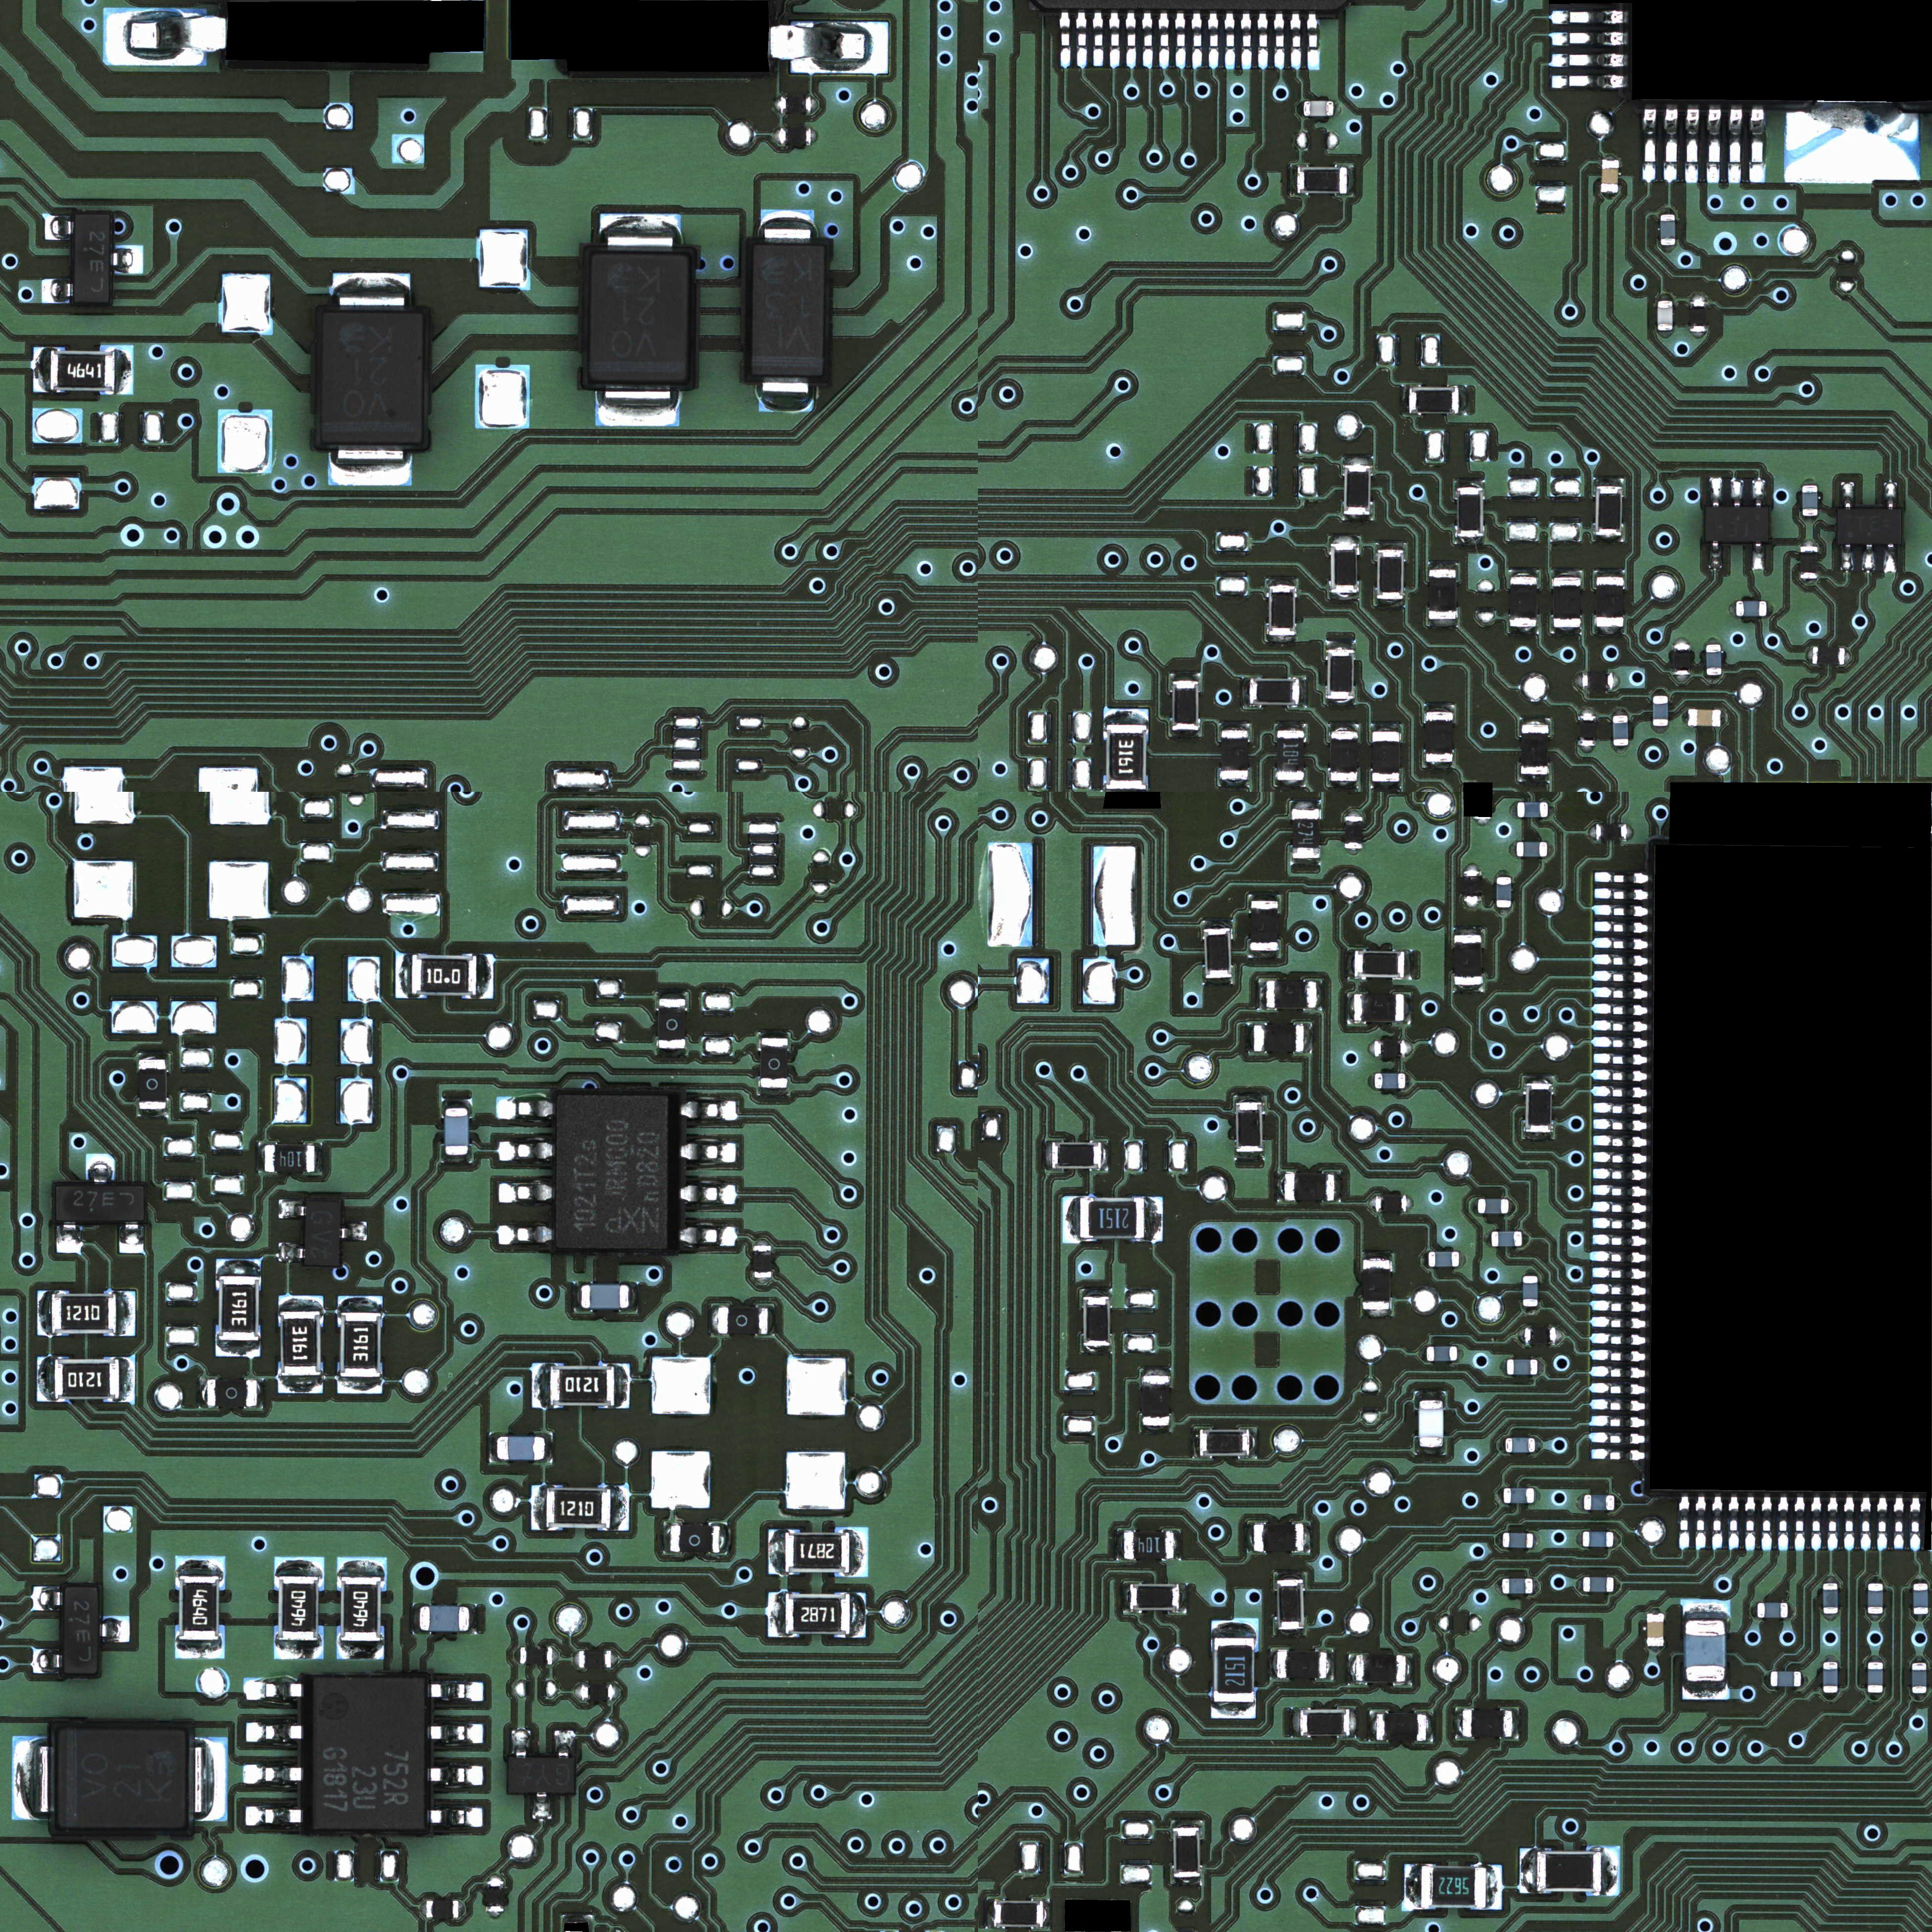Package: (556, 1093, 669, 1251), (313, 1677, 425, 1829), (322, 311, 423, 444), (589, 253, 688, 384), (57, 1730, 184, 1829), (752, 244, 824, 377), (55, 1182, 147, 1223), (73, 212, 111, 303), (64, 1587, 97, 1674), (1421, 1865, 1484, 1909), (1214, 1637, 1256, 1702), (179, 1575, 221, 1640), (218, 1276, 260, 1341), (1106, 724, 1148, 789), (278, 1576, 320, 1640), (545, 1488, 610, 1529), (340, 1313, 380, 1378), (53, 1359, 119, 1399), (784, 1594, 849, 1635), (784, 1532, 849, 1573), (340, 1576, 380, 1642), (53, 1293, 117, 1334), (550, 1366, 614, 1407), (412, 955, 476, 996), (1537, 1851, 1601, 1891), (51, 350, 115, 391), (1081, 1198, 1145, 1238), (280, 1311, 320, 1375), (1684, 1621, 1725, 1681), (1838, 508, 1900, 545), (510, 1757, 573, 1792), (306, 1201, 341, 1263), (1706, 508, 1769, 541), (1253, 1522, 1304, 1552), (1329, 729, 1357, 782), (1284, 1171, 1334, 1201), (1355, 1654, 1405, 1684), (656, 998, 685, 1049), (759, 1037, 787, 1088), (1276, 729, 1304, 780), (717, 1306, 768, 1334), (1219, 729, 1247, 780), (1553, 577, 1582, 628), (1428, 570, 1456, 619), (1249, 901, 1277, 950), (1123, 1530, 1173, 1559), (265, 1145, 315, 1173), (1463, 1709, 1513, 1737), (1362, 1260, 1391, 1309), (1596, 577, 1624, 626), (1267, 980, 1316, 1008), (1277, 1651, 1327, 1679), (1454, 934, 1481, 985), (1426, 711, 1453, 763), (1327, 648, 1353, 699), (140, 1058, 166, 1109), (1353, 952, 1405, 978), (1373, 731, 1399, 782), (1141, 1376, 1169, 1424), (1355, 993, 1403, 1021), (1292, 809, 1318, 858), (1277, 1580, 1304, 1629), (1376, 1714, 1426, 1741), (1269, 586, 1295, 635), (1254, 1024, 1304, 1051), (1200, 1430, 1249, 1456), (1205, 929, 1231, 978), (1522, 724, 1548, 773), (207, 1380, 257, 1407), (671, 1525, 720, 1552), (1330, 543, 1357, 593), (1509, 577, 1536, 626), (1456, 488, 1483, 536), (1300, 1709, 1348, 1736), (1175, 1828, 1200, 1877), (1596, 487, 1621, 536), (1527, 1083, 1552, 1132), (1345, 465, 1369, 515), (1237, 1102, 1261, 1152), (1378, 548, 1403, 598), (1249, 679, 1299, 704), (1173, 681, 1198, 729), (1085, 1297, 1109, 1345), (580, 1283, 628, 1307), (1053, 1143, 1100, 1168), (1410, 387, 1458, 412), (421, 1606, 469, 1631), (1299, 168, 1346, 193), (1131, 1585, 1178, 1610), (497, 1435, 543, 1460), (994, 1902, 1044, 1925), (446, 1108, 469, 1155), (1419, 1399, 1442, 1447), (752, 1246, 773, 1277), (426, 1898, 458, 1918), (579, 1649, 610, 1668), (520, 1645, 552, 1665), (1601, 159, 1619, 193), (1812, 646, 1845, 663), (487, 1879, 504, 1913), (1688, 708, 1720, 725), (1647, 1614, 1665, 1645), (1674, 644, 1691, 676), (1345, 816, 1362, 847), (1799, 547, 1817, 579), (1801, 485, 1819, 517), (1690, 297, 1706, 331), (580, 1684, 614, 1700), (1477, 1198, 1509, 1214), (1375, 1196, 1407, 1212), (1428, 1251, 1460, 1267), (1658, 299, 1674, 331), (1522, 1276, 1537, 1307), (1822, 1661, 1838, 1693), (1583, 1495, 1615, 1511), (1660, 214, 1675, 246), (1375, 1040, 1407, 1056), (1913, 1583, 1928, 1615), (1506, 1437, 1536, 1453), (1518, 801, 1548, 817), (1504, 1488, 1534, 1504), (1822, 1583, 1838, 1614), (1771, 1670, 1801, 1686), (1491, 1231, 1522, 1247), (1375, 1072, 1405, 1088), (1507, 1359, 1537, 1375), (780, 127, 810, 143), (1504, 1532, 1534, 1548), (1525, 1327, 1555, 1343), (1583, 1576, 1614, 1592), (1614, 717, 1629, 747), (1502, 1578, 1532, 1594), (1652, 695, 1668, 725), (1583, 1530, 1614, 1546), (1426, 1346, 1458, 1361), (1736, 602, 1767, 616), (1302, 101, 1334, 115), (1516, 842, 1546, 856), (1706, 644, 1720, 674), (1868, 1661, 1882, 1691), (1868, 1583, 1882, 1614), (1757, 1603, 1787, 1617), (1497, 878, 1511, 908), (1582, 674, 1612, 688), (1580, 717, 1594, 747), (1913, 1663, 1927, 1693)
Solder: (1783, 111, 1921, 182), (101, 7, 225, 71), (770, 14, 892, 78), (11, 1734, 57, 1821), (596, 384, 679, 426), (186, 1736, 226, 1821), (329, 444, 412, 485), (600, 212, 679, 253), (333, 272, 410, 311), (759, 377, 816, 412), (761, 211, 814, 242), (1548, 7, 1624, 27), (681, 1139, 736, 1164), (1548, 30, 1624, 48), (1548, 51, 1624, 69), (495, 1097, 554, 1120), (244, 1677, 303, 1700), (1550, 73, 1624, 90), (246, 1803, 303, 1826), (681, 1099, 738, 1122), (681, 1223, 738, 1246), (242, 1764, 303, 1785), (681, 1182, 736, 1205), (1640, 106, 1656, 184), (1663, 106, 1679, 184), (1707, 106, 1723, 184), (1684, 106, 1700, 184), (1727, 106, 1743, 184), (499, 1223, 552, 1246), (499, 1180, 552, 1203), (1750, 108, 1766, 184), (246, 1721, 303, 1743), (426, 1723, 483, 1744), (428, 1806, 483, 1828), (499, 1139, 554, 1161), (426, 1683, 483, 1702), (428, 1766, 483, 1785), (115, 343, 134, 395), (175, 1640, 226, 1660), (849, 1527, 869, 1578), (1601, 1845, 1621, 1897), (338, 1557, 387, 1576), (274, 1555, 324, 1575), (175, 1555, 225, 1575), (274, 1640, 324, 1660), (111, 244, 143, 274), (1306, 11, 1322, 71), (1587, 1398, 1647, 1414), (1587, 1265, 1647, 1281), (1591, 1067, 1651, 1083), (1591, 1083, 1651, 1099), (1591, 1099, 1651, 1115), (1683, 1681, 1730, 1700), (1062, 1196, 1081, 1244), (1683, 1599, 1730, 1619), (1591, 1215, 1649, 1231), (1591, 1116, 1649, 1132), (1589, 1447, 1645, 1463), (1145, 1196, 1164, 1242), (117, 1292, 136, 1336), (85, 1154, 115, 1182), (1191, 11, 1205, 71), (1207, 11, 1221, 71), (1240, 11, 1254, 71), (1587, 1415, 1647, 1430), (1587, 1366, 1647, 1380), (1587, 1382, 1647, 1396), (1587, 1348, 1647, 1362), (1587, 1332, 1647, 1346), (1587, 1315, 1647, 1329), (1587, 1299, 1647, 1313), (1589, 1249, 1649, 1263), (1589, 1233, 1649, 1247), (1589, 1200, 1649, 1214), (1589, 1168, 1649, 1182), (1591, 1134, 1651, 1148), (1591, 1051, 1651, 1065), (1591, 1035, 1651, 1049), (1591, 1019, 1651, 1033), (1591, 1001, 1651, 1016), (1591, 970, 1651, 984), (1589, 954, 1649, 968), (1591, 886, 1651, 901), (1591, 918, 1651, 932), (1591, 902, 1651, 916), (1591, 936, 1651, 950), (336, 1642, 384, 1660), (32, 1647, 64, 1674), (1484, 1863, 1502, 1911), (1058, 11, 1072, 69), (1074, 11, 1088, 69), (1108, 11, 1122, 69), (1092, 11, 1106, 69), (1173, 11, 1187, 69), (1157, 11, 1171, 69), (1123, 11, 1138, 69), (1290, 11, 1304, 69), (1272, 11, 1286, 69), (1256, 11, 1270, 69), (1589, 1283, 1647, 1297), (1591, 1184, 1649, 1198), (1591, 1150, 1649, 1164), (1591, 985, 1649, 1000), (1591, 870, 1649, 885), (278, 1376, 324, 1394), (768, 1529, 786, 1575), (476, 954, 494, 1000), (34, 347, 51, 393), (216, 1258, 262, 1276), (395, 954, 412, 1000), (99, 1615, 129, 1642), (32, 1585, 64, 1610), (612, 1486, 630, 1530), (1520, 1849, 1537, 1893), (1909, 1497, 1923, 1552), (1891, 1497, 1905, 1552), (1875, 1497, 1890, 1552), (1858, 1497, 1872, 1552), (1842, 1497, 1856, 1552), (1826, 1495, 1840, 1550), (1776, 1497, 1790, 1552), (1759, 1497, 1773, 1552), (1743, 1497, 1757, 1552), (1727, 1495, 1741, 1550), (1711, 1495, 1725, 1550), (1695, 1495, 1709, 1550), (1677, 1497, 1691, 1552), (44, 214, 73, 241), (57, 1223, 81, 1253), (119, 1223, 143, 1253), (42, 280, 73, 304), (1224, 11, 1237, 71), (1212, 1621, 1258, 1637), (533, 1362, 548, 1408), (214, 1341, 260, 1357), (119, 1357, 134, 1403), (278, 1295, 324, 1311), (1405, 1863, 1421, 1909), (1141, 11, 1154, 69), (1589, 1431, 1647, 1444), (1212, 1702, 1256, 1718), (614, 1364, 630, 1408), (768, 1592, 784, 1637), (37, 1357, 53, 1401), (1810, 1495, 1822, 1550), (1794, 1495, 1806, 1550), (531, 1484, 545, 1530), (37, 1290, 51, 1336), (338, 1378, 382, 1392), (338, 1297, 382, 1311), (851, 1592, 865, 1637), (1104, 709, 1148, 724), (341, 1219, 368, 1240), (554, 1730, 575, 1757), (533, 1792, 552, 1821), (278, 1242, 306, 1261), (511, 1730, 531, 1757), (280, 1200, 306, 1219), (1750, 541, 1766, 570), (1709, 476, 1723, 506), (1730, 478, 1744, 508), (1752, 479, 1766, 508), (1882, 545, 1897, 571), (1516, 773, 1550, 784), (1290, 1706, 1300, 1739), (1861, 545, 1875, 570), (1842, 481, 1854, 510), (1884, 479, 1897, 508), (1458, 384, 1468, 416), (1249, 1426, 1260, 1458), (1709, 541, 1721, 568), (1842, 545, 1854, 571), (1272, 1629, 1307, 1638), (469, 1605, 479, 1633), (545, 1431, 554, 1465), (1399, 384, 1408, 418), (1274, 1569, 1307, 1578), (561, 1913, 594, 1921), (1361, 1309, 1392, 1318), (412, 1603, 421, 1635), (441, 1155, 472, 1164), (488, 1431, 497, 1463), (1592, 476, 1624, 485), (1290, 800, 1322, 809), (1302, 1021, 1311, 1053), (1258, 978, 1267, 1010), (1246, 1520, 1254, 1552), (1173, 1529, 1182, 1560), (1143, 1366, 1169, 1376), (136, 1109, 168, 1118), (198, 1376, 207, 1408), (1288, 165, 1297, 195), (1456, 479, 1486, 488), (1343, 456, 1373, 465), (1428, 619, 1458, 628), (1299, 678, 1307, 708), (1424, 702, 1454, 711), (1403, 994, 1412, 1024), (1415, 1447, 1445, 1456), (1415, 1391, 1445, 1399), (1346, 1654, 1355, 1684), (1269, 1649, 1277, 1679), (1178, 1583, 1187, 1614), (1044, 1141, 1053, 1171), (1235, 1152, 1265, 1161), (985, 1898, 994, 1928), (1362, 1251, 1392, 1260), (257, 1378, 265, 1408), (442, 1099, 471, 1108), (1428, 561, 1456, 570), (1346, 165, 1355, 193), (1456, 536, 1484, 545), (1376, 598, 1405, 607), (1171, 729, 1200, 738), (1327, 1651, 1336, 1679), (1083, 1345, 1111, 1353), (663, 1522, 671, 1555), (720, 1522, 727, 1555), (1507, 570, 1541, 577), (1122, 1580, 1129, 1614), (1330, 534, 1357, 543), (1269, 577, 1295, 586), (1304, 1522, 1311, 1553), (757, 1088, 789, 1095), (1594, 570, 1626, 577), (1507, 626, 1539, 633), (1592, 536, 1624, 543), (1369, 782, 1401, 789), (1290, 858, 1322, 865), (1247, 950, 1279, 957), (1201, 920, 1233, 927), (1346, 948, 1353, 980), (1453, 985, 1484, 993), (1453, 927, 1484, 934), (1523, 1076, 1555, 1083), (1369, 1709, 1376, 1741), (1116, 1529, 1123, 1560), (1192, 1426, 1200, 1458), (1233, 1095, 1265, 1102), (1171, 1821, 1203, 1828), (315, 1143, 322, 1175), (759, 1030, 789, 1037), (1552, 628, 1582, 635), (1552, 570, 1582, 577), (1520, 717, 1550, 724), (1375, 541, 1405, 548), (1325, 640, 1355, 648), (1325, 697, 1355, 704), (1242, 678, 1249, 708), (1276, 780, 1306, 787), (1219, 780, 1249, 787), (1219, 722, 1249, 729), (1169, 672, 1200, 679), (1329, 782, 1359, 789), (1371, 724, 1401, 731), (1246, 1023, 1253, 1053), (1346, 994, 1353, 1024), (1405, 950, 1412, 980), (1523, 1132, 1553, 1139), (1513, 1709, 1520, 1739), (1454, 1707, 1461, 1737), (1426, 1713, 1433, 1743), (1171, 1877, 1201, 1884), (1334, 1171, 1341, 1201), (1277, 1171, 1284, 1201), (628, 1284, 637, 1307), (1203, 978, 1231, 985), (656, 991, 685, 998), (1330, 593, 1359, 600), (1267, 635, 1295, 642), (1348, 1709, 1355, 1737), (1100, 1143, 1108, 1171), (1083, 1288, 1109, 1295), (658, 1049, 685, 1056), (1426, 763, 1453, 770), (1143, 1426, 1169, 1433), (573, 1283, 580, 1307), (1343, 847, 1362, 856), (1316, 978, 1322, 1010), (1592, 628, 1624, 633), (1327, 724, 1359, 729), (1247, 895, 1279, 901), (1407, 1654, 1412, 1686), (258, 1141, 264, 1173), (1343, 515, 1373, 520), (1276, 724, 1306, 729), (1044, 1898, 1049, 1928), (138, 1053, 168, 1058), (711, 1306, 717, 1334), (768, 1306, 773, 1334), (810, 127, 819, 143), (771, 127, 780, 143), (1612, 672, 1621, 688), (1509, 801, 1518, 817), (1405, 1072, 1414, 1088), (1522, 1306, 1537, 1315), (1499, 1359, 1507, 1375), (1497, 1437, 1506, 1453), (1495, 1532, 1504, 1548), (1720, 709, 1729, 725), (458, 1900, 465, 1918), (552, 1647, 559, 1665), (754, 1277, 771, 1284), (1799, 540, 1817, 547), (1729, 600, 1736, 617), (1706, 674, 1720, 683), (1546, 842, 1555, 856), (1345, 809, 1362, 816), (1497, 869, 1511, 878), (1407, 1040, 1414, 1058), (1787, 1603, 1796, 1617), (419, 1900, 426, 1916), (573, 1684, 580, 1700), (1601, 193, 1617, 200), (1660, 207, 1675, 214), (1658, 331, 1674, 338), (1801, 478, 1817, 485), (1674, 676, 1690, 683), (1674, 637, 1690, 644), (1575, 672, 1582, 688), (1652, 688, 1668, 695), (1652, 725, 1668, 732), (1614, 747, 1629, 754), (1578, 747, 1594, 754), (1580, 709, 1596, 717), (1495, 908, 1511, 915), (1368, 1040, 1375, 1056), (1368, 1072, 1375, 1088), (1470, 1198, 1477, 1214), (1522, 1231, 1529, 1247), (1484, 1230, 1491, 1246), (1518, 1327, 1525, 1343), (1537, 1359, 1545, 1375), (1536, 1437, 1543, 1453), (1534, 1488, 1541, 1504), (1532, 1578, 1539, 1594), (1495, 1578, 1502, 1594), (1614, 1576, 1621, 1592), (1575, 1576, 1582, 1592), (1421, 1251, 1428, 1267), (1460, 1251, 1467, 1267), (1801, 1670, 1808, 1686), (1764, 1672, 1771, 1688), (1822, 1693, 1838, 1700), (1822, 1654, 1838, 1661), (1867, 1693, 1882, 1700), (1911, 1693, 1927, 1700), (1822, 1614, 1838, 1621), (1822, 1576, 1838, 1583), (1407, 1196, 1414, 1212), (1681, 709, 1688, 725), (1334, 101, 1341, 115), (1691, 331, 1706, 338), (1691, 290, 1706, 297), (1803, 517, 1817, 524), (1706, 637, 1720, 644), (1548, 803, 1555, 817), (1509, 842, 1516, 856), (1509, 1200, 1516, 1214), (1555, 1329, 1562, 1343), (1419, 1346, 1426, 1361), (1497, 1488, 1504, 1502), (1576, 1495, 1583, 1509), (1614, 1532, 1621, 1546), (1575, 1532, 1582, 1546), (1750, 1603, 1757, 1617), (1913, 1656, 1927, 1663), (1868, 1614, 1882, 1621), (1868, 1576, 1882, 1583), (487, 1874, 504, 1879), (487, 1913, 504, 1918), (573, 1651, 579, 1668), (612, 1651, 617, 1668), (754, 1238, 771, 1244), (1601, 154, 1619, 159), (1799, 579, 1817, 584), (1474, 819, 1491, 824), (1525, 1269, 1537, 1276), (515, 1647, 520, 1663), (614, 1684, 619, 1700), (1660, 246, 1675, 251), (1845, 648, 1851, 663), (1806, 648, 1812, 663), (1767, 602, 1773, 617), (1615, 1495, 1621, 1511), (1647, 1645, 1663, 1651), (1647, 1608, 1663, 1614), (1913, 1615, 1928, 1621), (1913, 1578, 1928, 1583), (1369, 1196, 1375, 1212), (1297, 101, 1302, 115), (1658, 294, 1672, 299), (1614, 709, 1628, 715), (1534, 1534, 1539, 1548), (1868, 1656, 1882, 1661), (1458, 1348, 1463, 1361)
